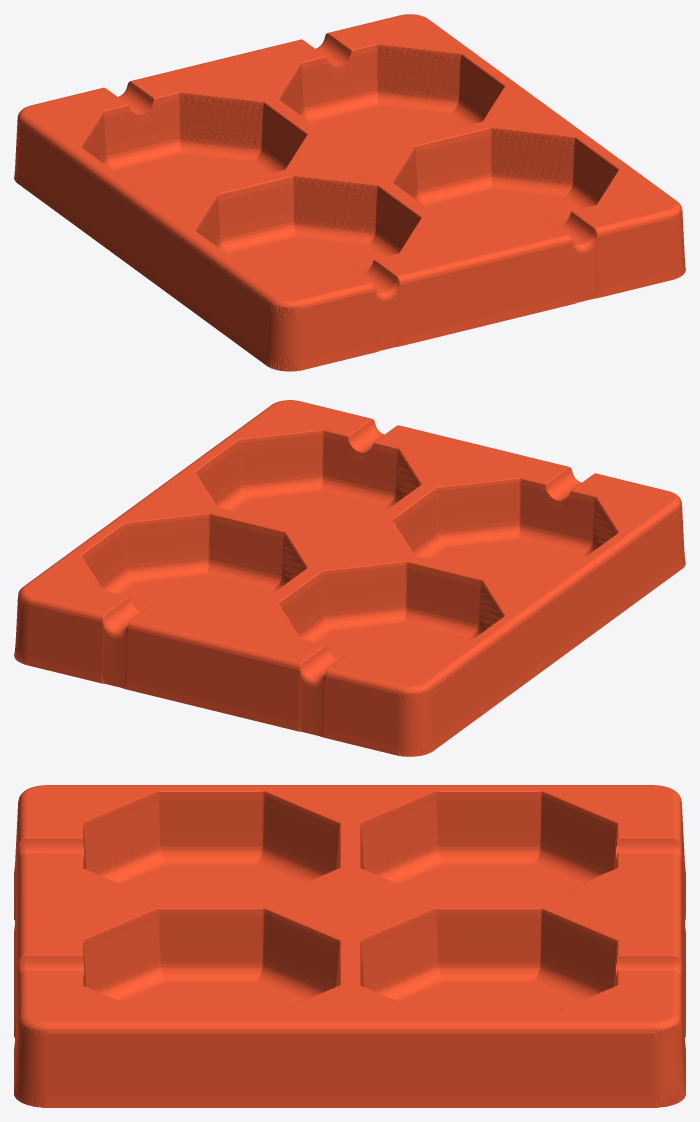
File: mold.glb
3 renders of one model, top to bottom at view 1: azimuth 30°, elevation 25°; view 2: azimuth 150°, elevation 25°; view 3: azimuth 270°, elevation 25°, orthographic. The views are drawn at different scales.
Visible parts, largest first — view 1: geometry_0; view 2: geometry_0; view 3: geometry_0.
Boxes of the visible parts, x1,y1,x2,y2 form: geometry_0: (14,14,685,371); geometry_0: (14,400,685,756); geometry_0: (14,785,685,1107).
Bounding box in the file's own units: 0.1611 × 0.0245 × 0.1853.
